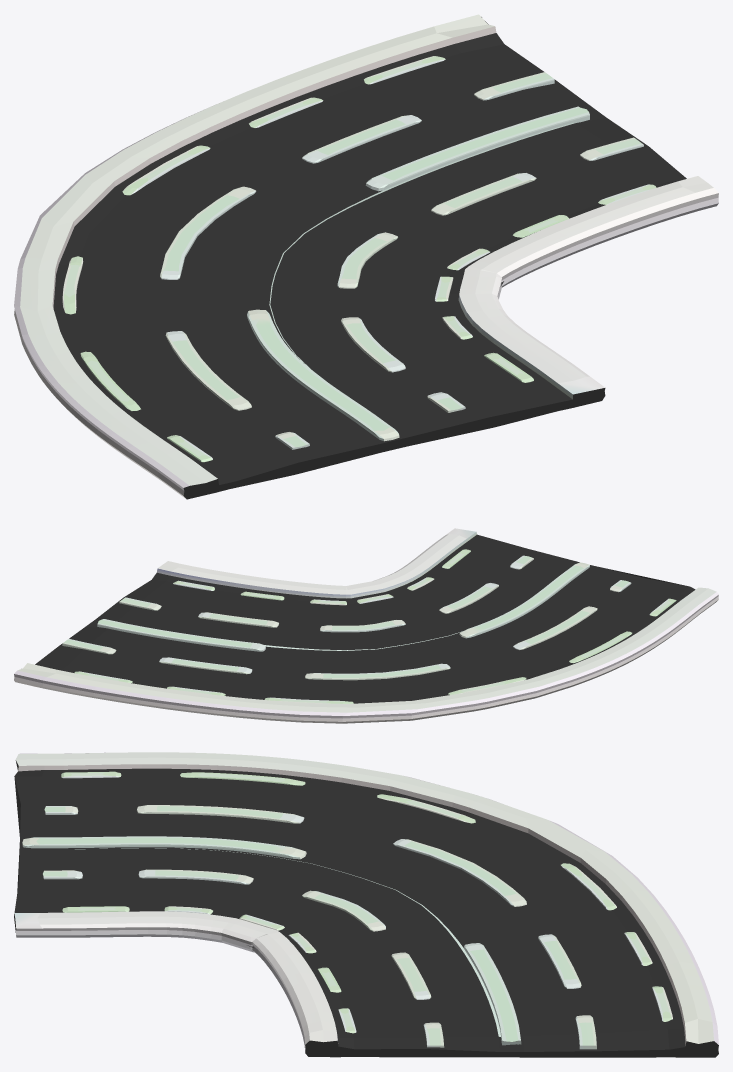
File: STA_Project_Road_2_V1.fbx
3 views of the same model, one above another, from view 1: azimuth 30°, elevation 25°; view 2: azimuth 150°, elevation 25°; view 3: azimuth 270°, elevation 25° (orthographic). The views are drawn at different scales.
Visible parts, largest first — view 1: Roads_V2; view 2: Roads_V2; view 3: Roads_V2.
Part boxes in pixels (x1,y1,x2,y2): Roads_V2: (14,14,718,499); Roads_V2: (14,528,718,723); Roads_V2: (14,752,718,1057).
Size of the model in its own units: 2017 by 54.29 by 2041.
